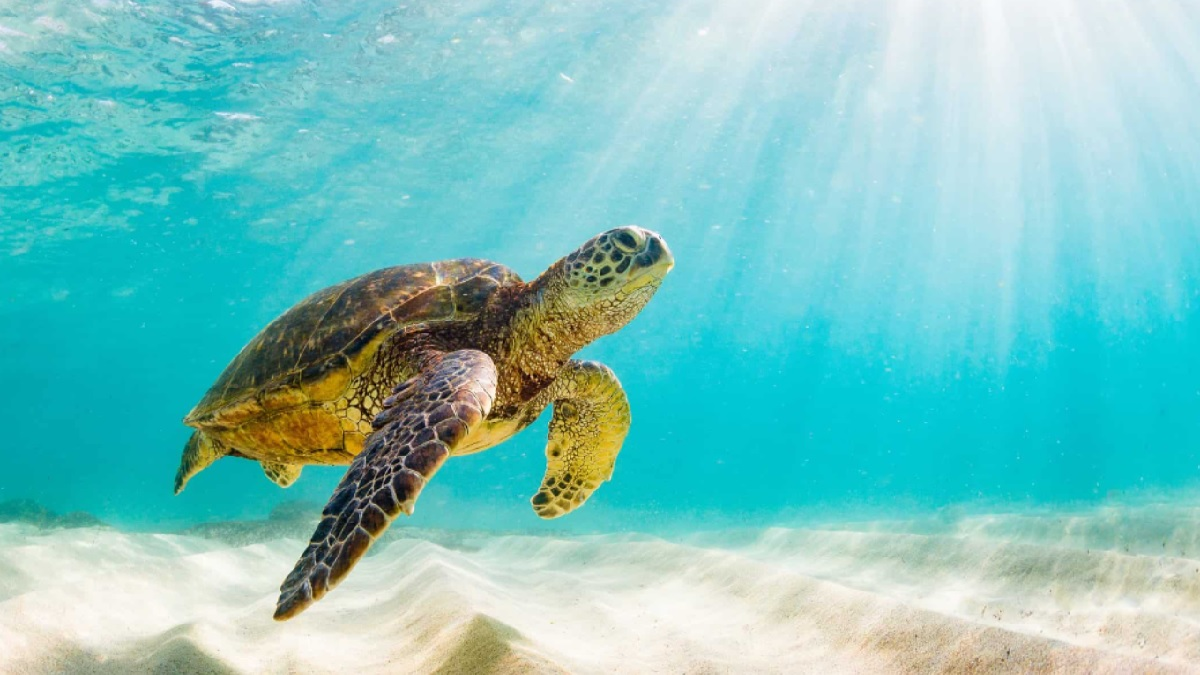eye: (611, 228, 646, 254)
mouth: (595, 257, 678, 304)
